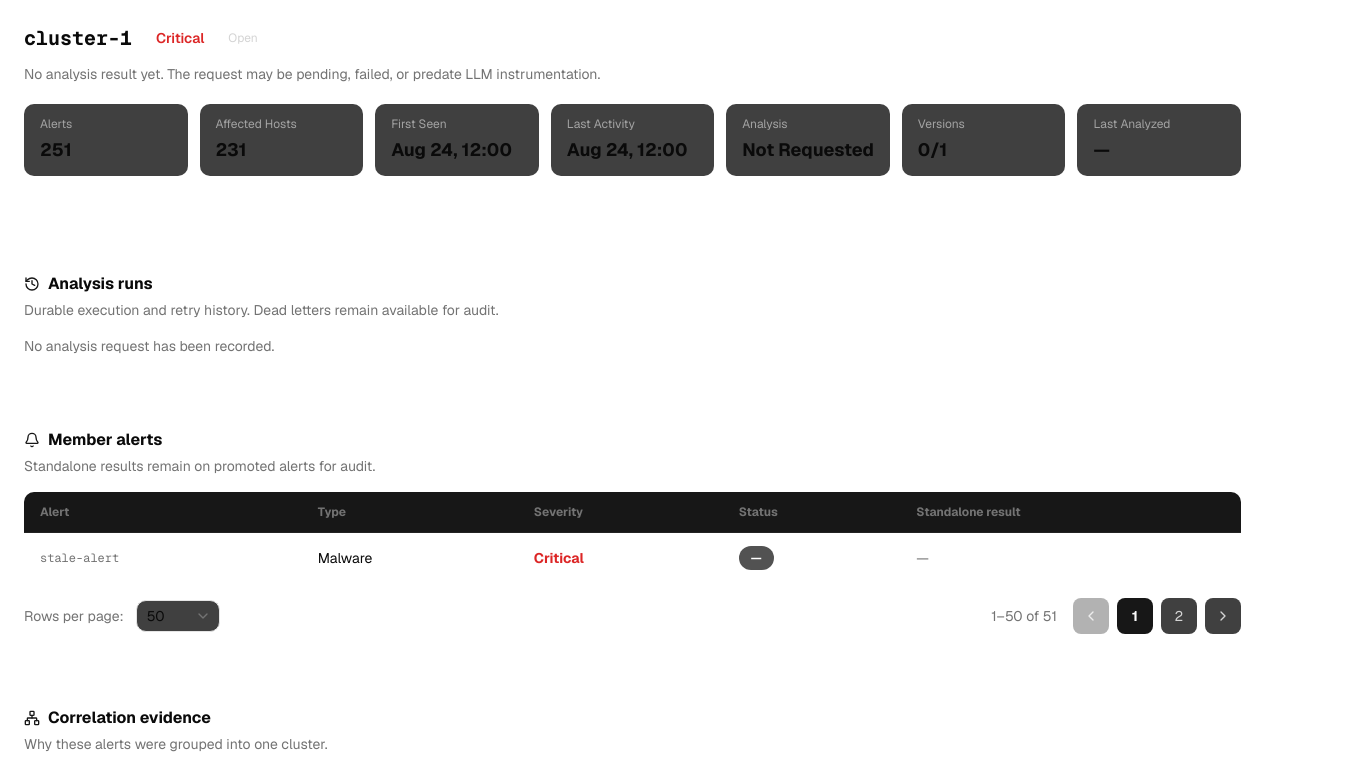
Test: ClusterDetailView › uses the exact host count and clears stale rows after a page failure
expect the link "stale-alert" is shown: met, box x1=40 y1=550 x2=119 y2=566
expect the text "231" is shown: met, box x1=216 y1=138 x2=247 y2=161
Click the button named "Next page" at (1223, 616), box x1=1205 y1=598 x2=1241 y2=634
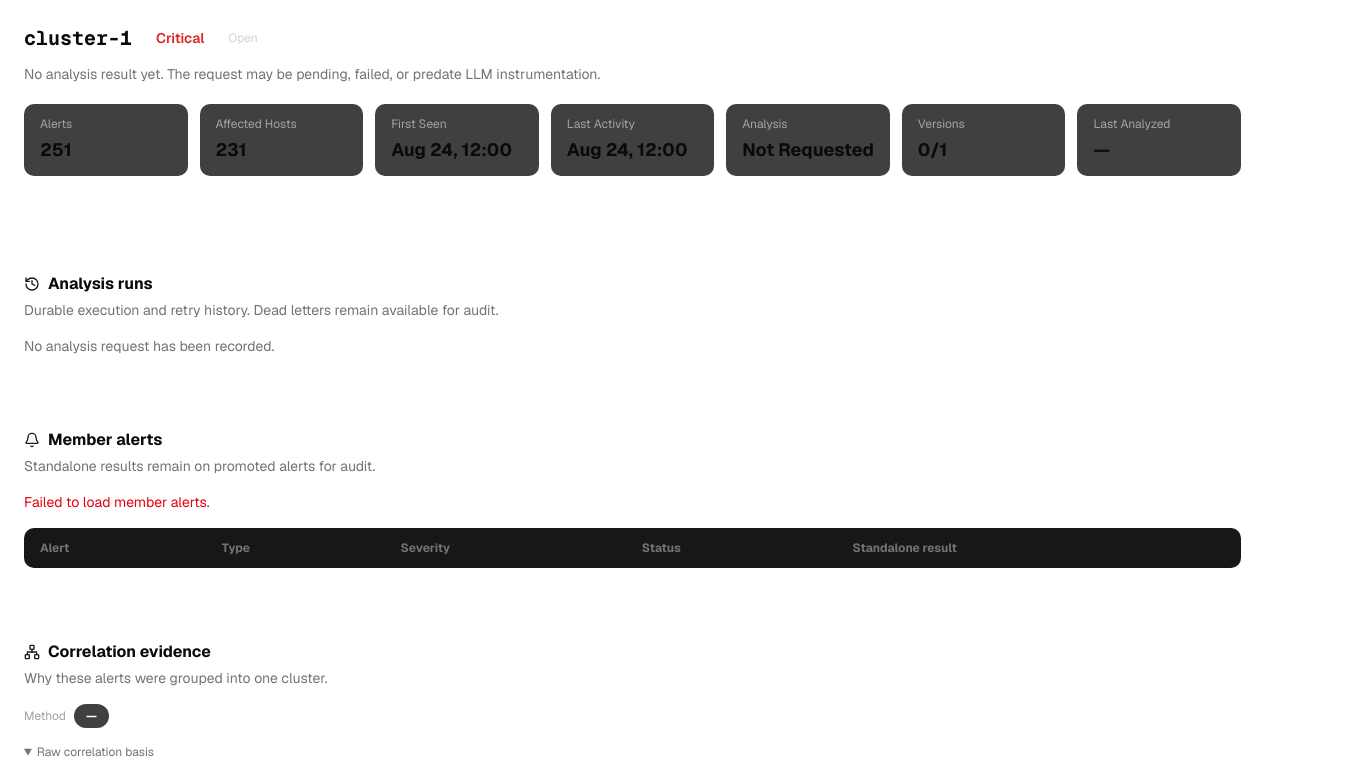
expect the text "Failed to load member alerts." is shown: met, box x1=24 y1=493 x2=210 y2=511
expect the link "stale-alert" is gone: met
expect the navigation bar labelled "Pagination" is gone: met
